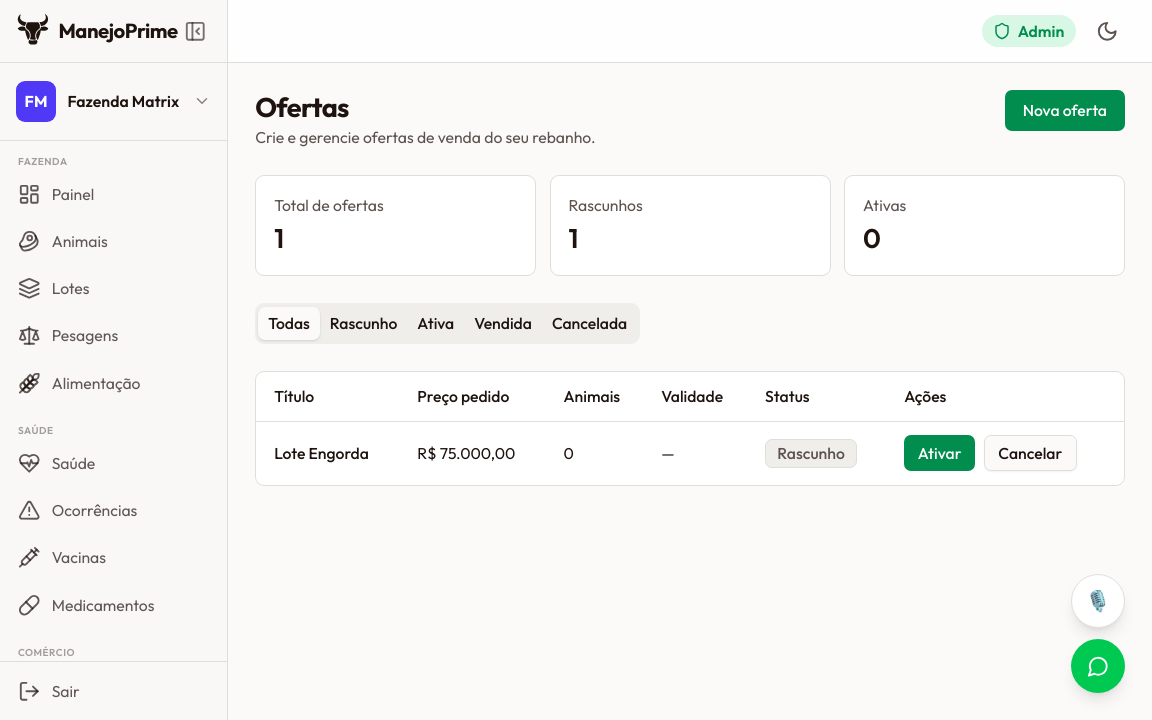
Test: offers page migration › admin can activate a draft offer
Click the button "Ativar".
click(940, 454)  # box [904,436,975,472]
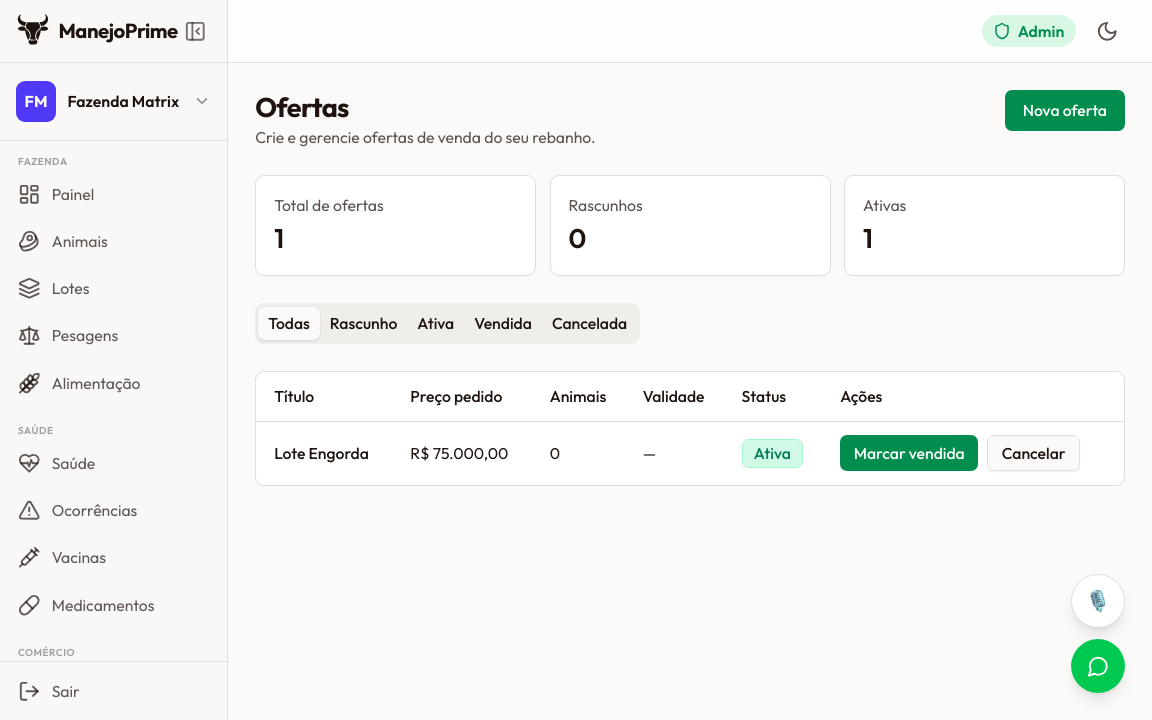
Expected: the text "Ativa" is shown, [742,439,803,468]
Expected: the button "Marcar vendida" is shown, [840,436,978,472]
